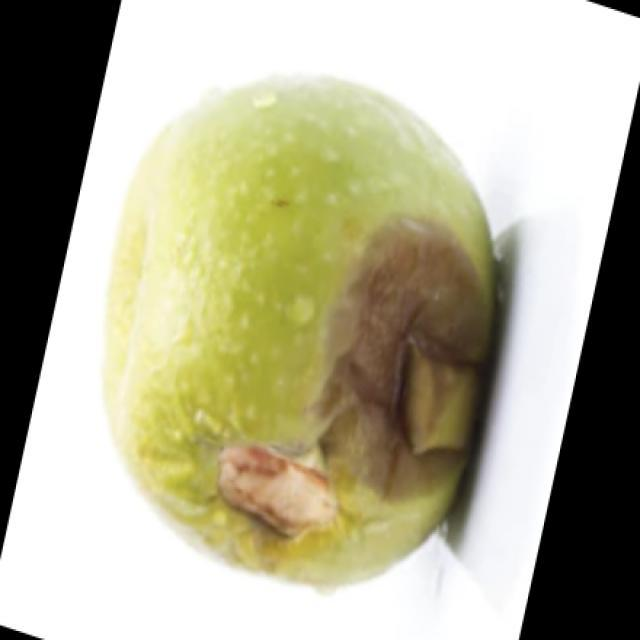Rotten: (110, 80, 497, 572)
